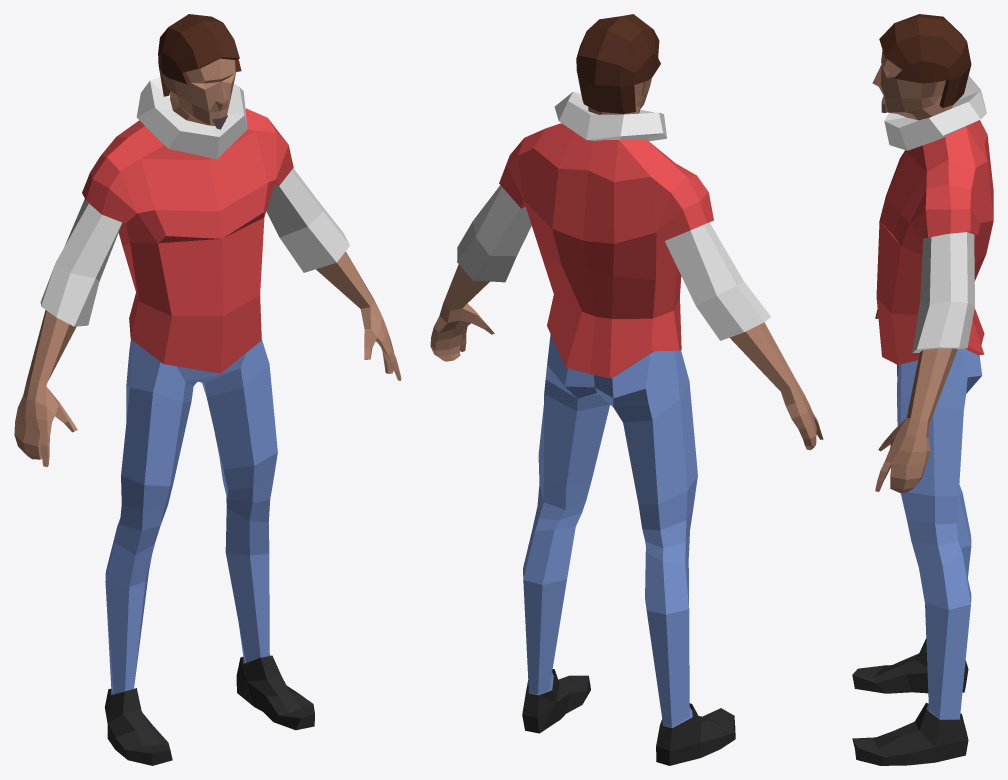
File: don-diego (1).fbx
3 views of the same model, side by side, from view 1: azimuth 30°, elevation 25°; view 2: azimuth 150°, elevation 25°; view 3: azimuth 270°, elevation 25° (orthographic).
Visible parts, largest first — view 1: male, clothes, sleeves, shoes, collar, hair; view 2: male, clothes, sleeves, hair, shoes, collar; view 3: male, clothes, shoes, sleeves, hair, collar.
Boxes of the visible parts, x1=… form: male: x1=14, y1=58, x2=401, y2=694; clothes: x1=82, y1=108, x2=293, y2=373; sleeves: x1=40, y1=168, x2=349, y2=326; shoes: x1=104, y1=655, x2=314, y2=765; collar: x1=136, y1=76, x2=247, y2=159; hair: x1=158, y1=14, x2=241, y2=96; male: x1=430, y1=78, x2=823, y2=727; clothes: x1=499, y1=123, x2=713, y2=378; sleeves: x1=457, y1=185, x2=770, y2=340; hair: x1=576, y1=14, x2=660, y2=113; shoes: x1=522, y1=669, x2=735, y2=765; collar: x1=554, y1=91, x2=666, y2=141; male: x1=872, y1=49, x2=982, y2=719; clothes: x1=876, y1=120, x2=993, y2=364; shoes: x1=852, y1=638, x2=968, y2=765; sleeves: x1=912, y1=232, x2=974, y2=352; hair: x1=879, y1=14, x2=971, y2=107; collar: x1=884, y1=75, x2=986, y2=150.
Size of the model in its own units: 196 by 352 by 64.1.
